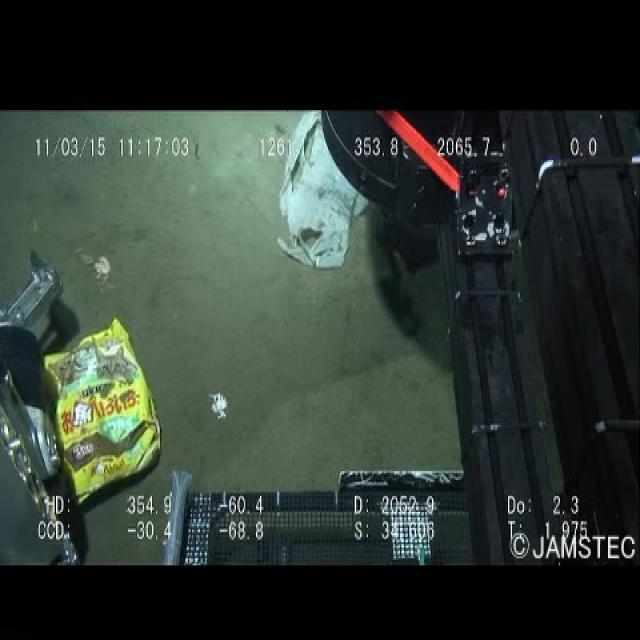plastic: (36, 313, 163, 510), (269, 109, 367, 295)
